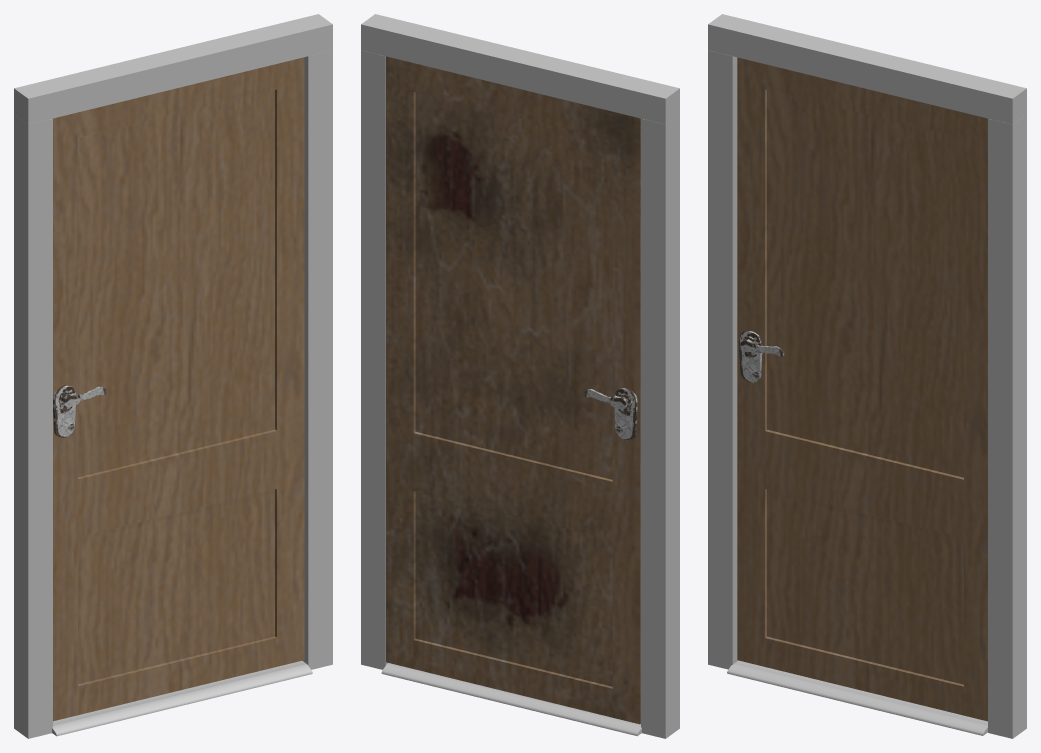
The model's file is DoorFirstVariation.fbx.
3 renders of one model, left to right at view 1: azimuth 30°, elevation 25°; view 2: azimuth 150°, elevation 25°; view 3: azimuth 330°, elevation 25°, orthographic.
Parts seen in each view (by area): view 1: Door.001, Door; view 2: Door.001, Door; view 3: Door.001, Door.
Boxes of the visible parts, x1,y1,x2,y2 form: Door.001: (53,57,304,721); Door: (14,14,332,738); Door.001: (386,56,640,724); Door: (361,14,679,738); Door.001: (737,57,987,721); Door: (708,14,1026,738).
Bounding box in the file's own units: 132 × 265 × 18.23.
2 materials, 1 textured.
